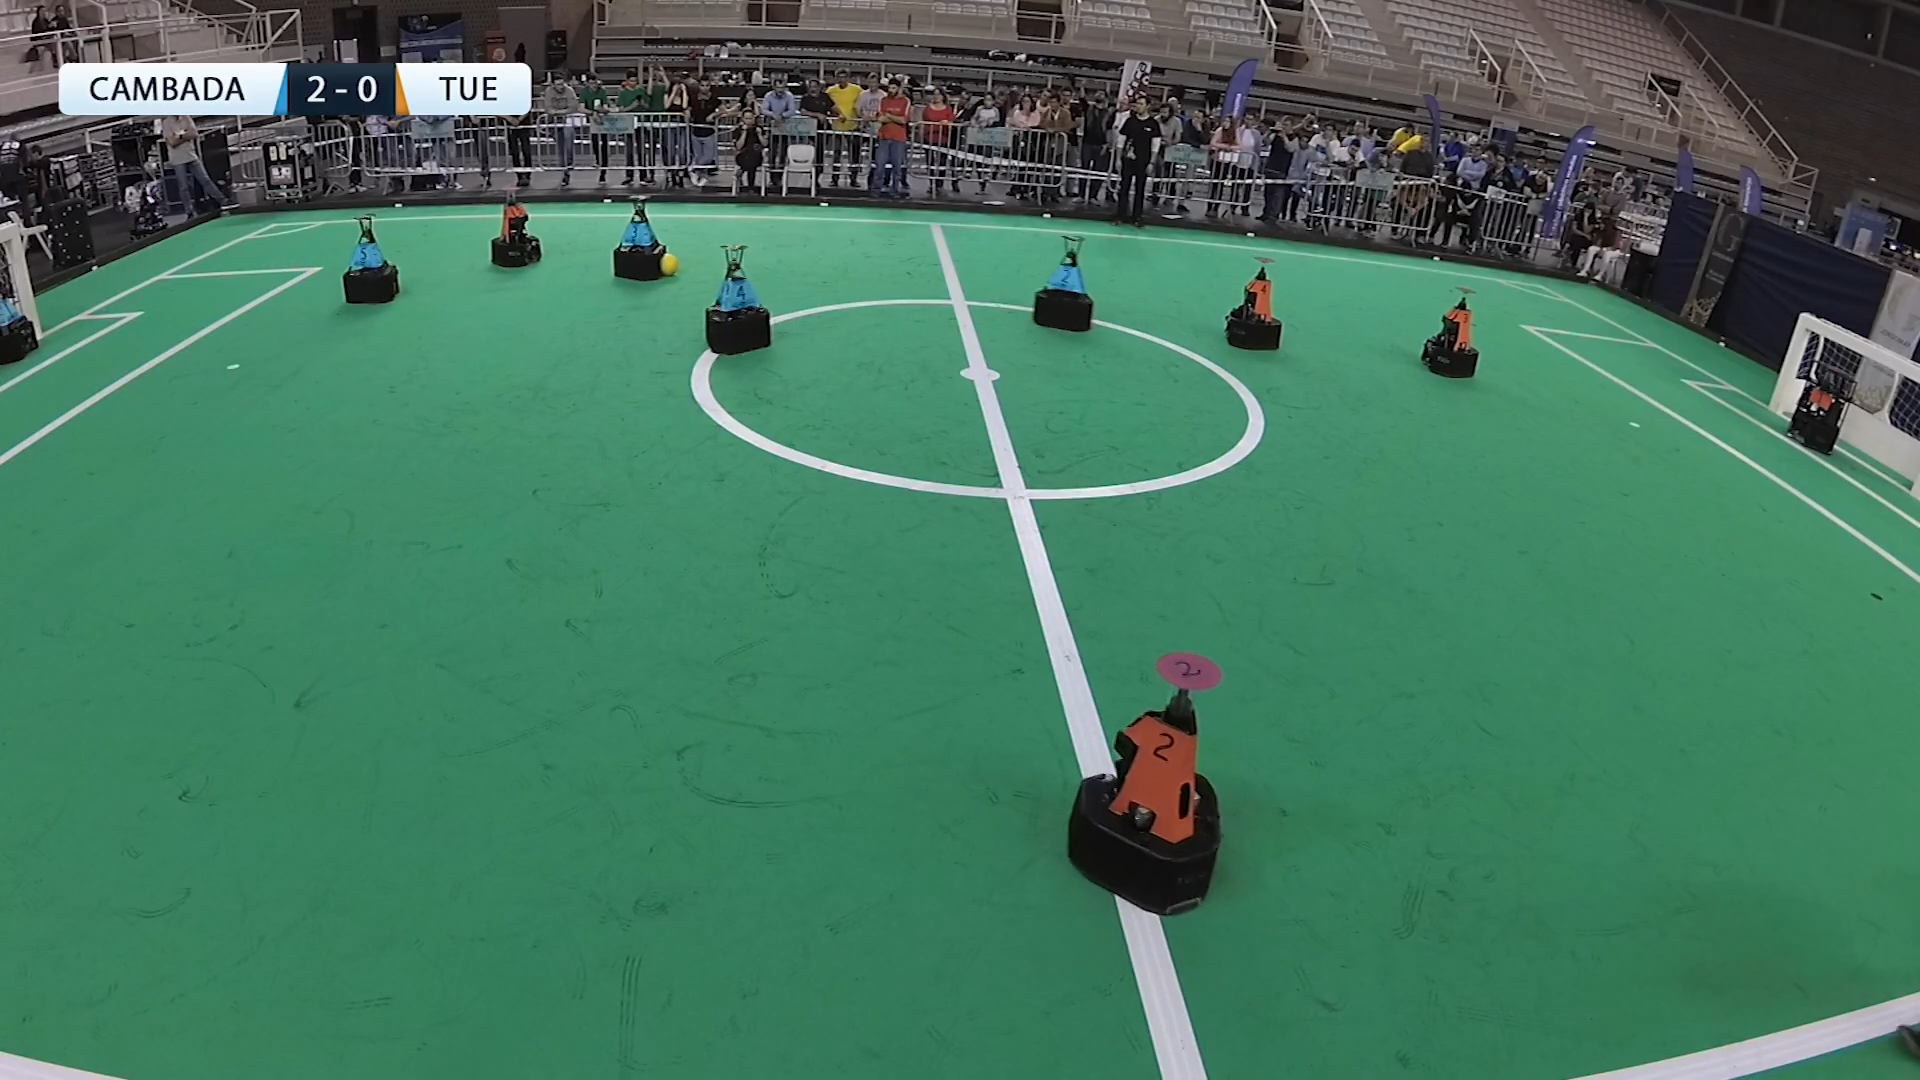BALL: (659, 248, 678, 272)
BLUE2: (1027, 236, 1100, 332)
BLUE3: (612, 193, 665, 280)
BLUE4: (705, 241, 770, 357)
BLUE5: (343, 218, 404, 305)
RED2: (1065, 651, 1237, 905)
RED3: (1422, 280, 1486, 380)
RED4: (1232, 257, 1290, 348)
RED5: (489, 186, 541, 276)
R_Goalie: (1778, 371, 1867, 448)
